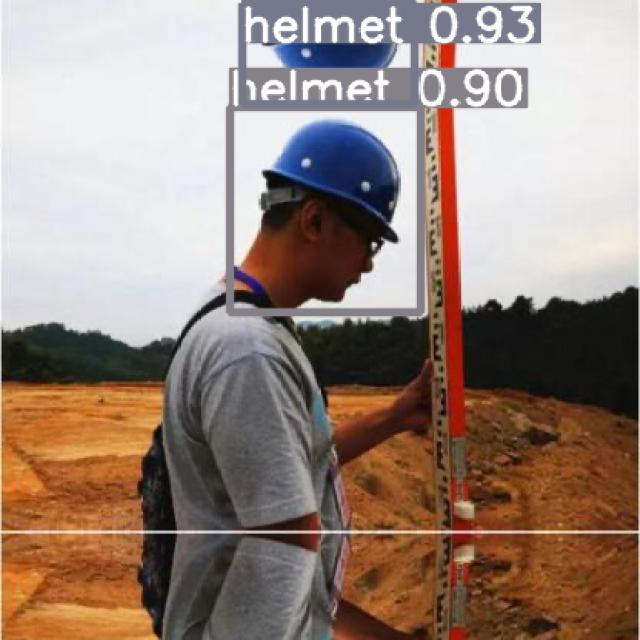Helmet: (260, 118, 401, 243)
